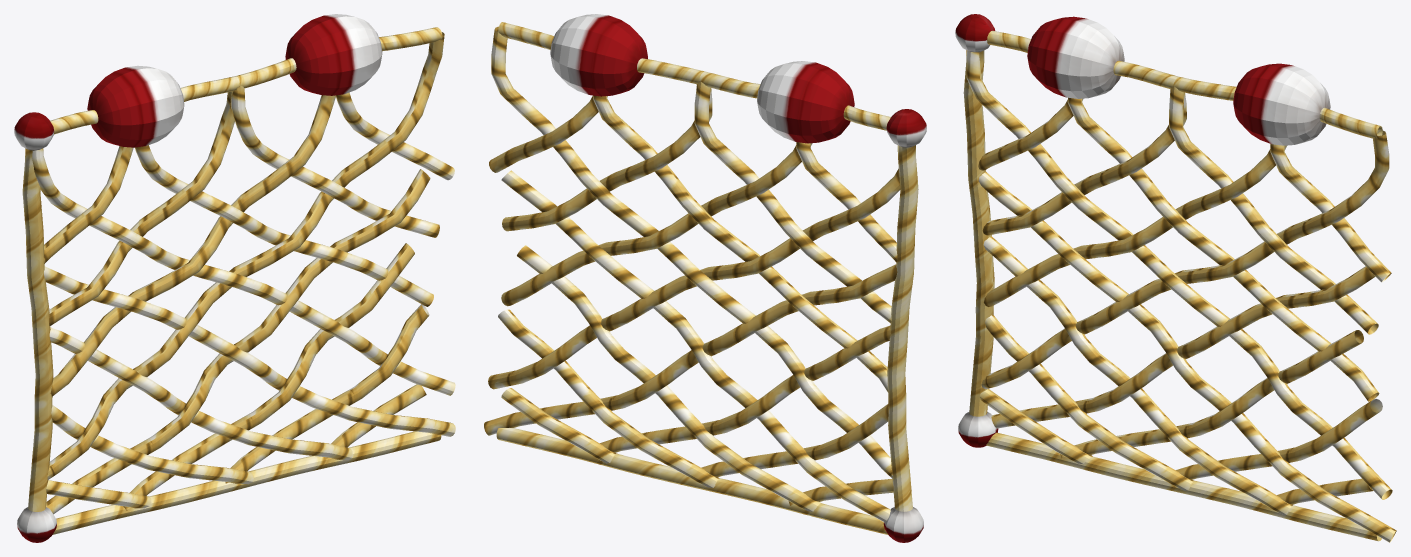
File: Tutorial_Buoy_End2.fbx
3 views of the same model, side by side, from view 1: azimuth 30°, elevation 25°; view 2: azimuth 150°, elevation 25°; view 3: azimuth 330°, elevation 25° (orthographic).
Parts seen in each view (by area): view 1: Tutorial_Buoy_End2; view 2: Tutorial_Buoy_End2; view 3: Tutorial_Buoy_End2.
Boxes of the visible parts, bbox=[...] form: Tutorial_Buoy_End2: bbox=[14, 14, 455, 542]; Tutorial_Buoy_End2: bbox=[484, 14, 926, 542]; Tutorial_Buoy_End2: bbox=[955, 14, 1396, 542].
Size of the model in its own units: 21.64 by 21.2 by 3.8.
1 material, 1 textured.
